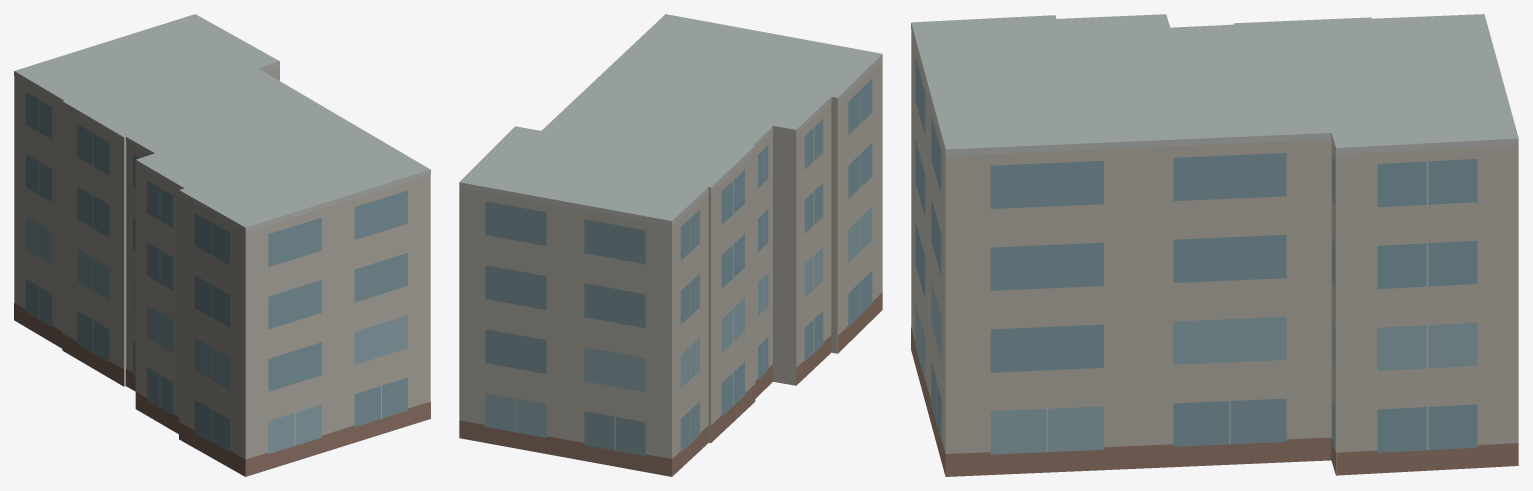
The model's file is survey-upis-32732661.glb.
3 renders of one model, left to right at view 1: azimuth 30°, elevation 25°; view 2: azimuth 150°, elevation 25°; view 3: azimuth 270°, elevation 25°, orthographic. The views are drawn at different scales.
Parts seen in each view (by area): view 1: survey-upis-32732661.tmp; view 2: survey-upis-32732661.tmp; view 3: survey-upis-32732661.tmp.
Part boxes in pixels (x1=…): survey-upis-32732661.tmp: x1=14, y1=14, x2=430, y2=476; survey-upis-32732661.tmp: x1=459, y1=14, x2=882, y2=476; survey-upis-32732661.tmp: x1=911, y1=14, x2=1518, y2=476.
Size of the model in its own units: 10.83 by 12.2 by 20.53.
